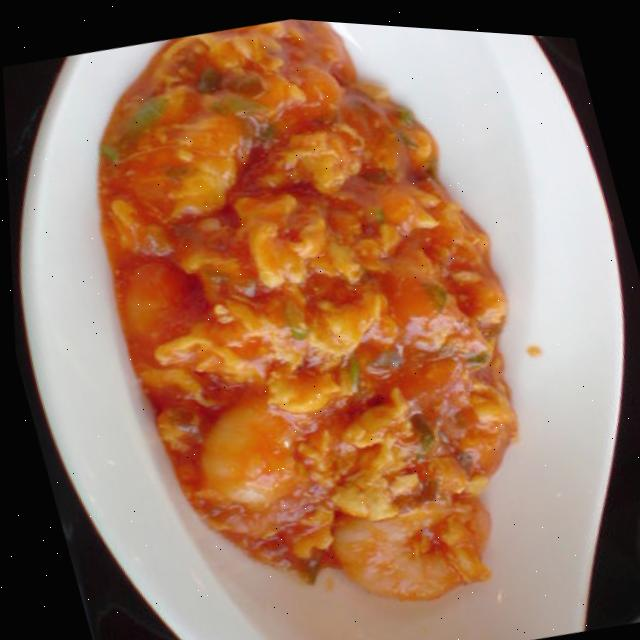熟制海鲜: (46, 2, 620, 640)
